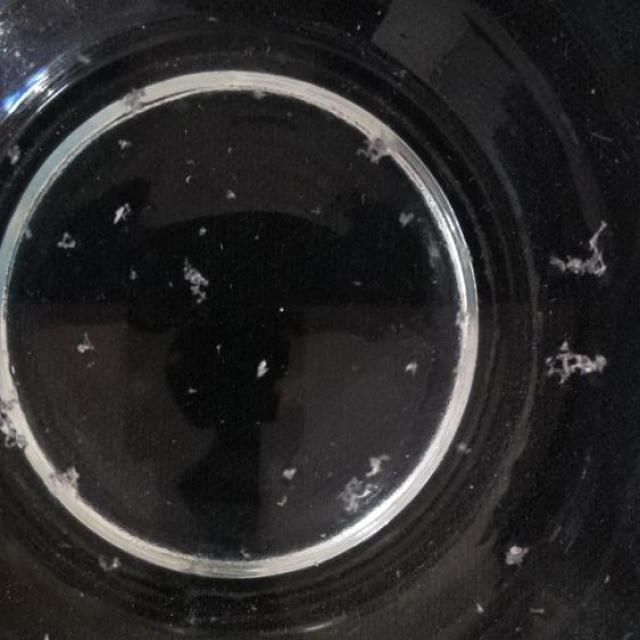fiber: (544, 222, 612, 280), (338, 452, 395, 510), (544, 340, 610, 388), (178, 262, 218, 308), (46, 465, 85, 502), (359, 131, 397, 166), (500, 540, 536, 573), (98, 554, 126, 578), (222, 182, 246, 208), (4, 143, 30, 167), (56, 230, 83, 252), (80, 331, 98, 362), (280, 460, 302, 484), (112, 202, 132, 228), (404, 354, 424, 379), (397, 208, 419, 228), (250, 85, 272, 104), (253, 354, 270, 378), (455, 309, 474, 330), (114, 134, 135, 150), (455, 436, 472, 455), (477, 594, 486, 622), (276, 302, 289, 321), (130, 264, 138, 286), (187, 386, 198, 401), (196, 225, 207, 236), (281, 496, 290, 509), (212, 342, 225, 351)
